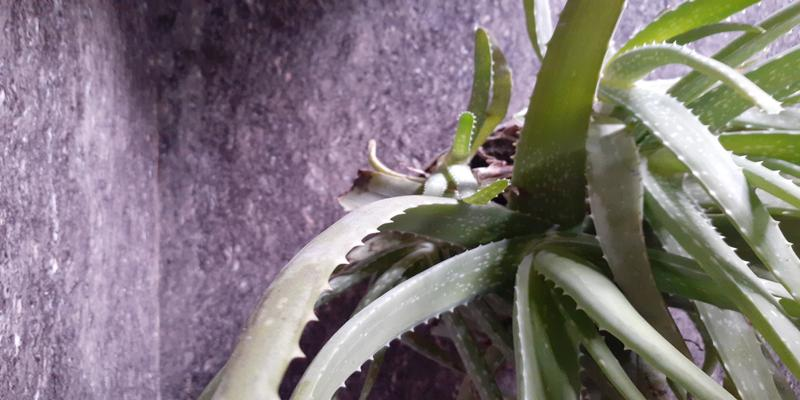Aloevera: (394, 62, 793, 384)
